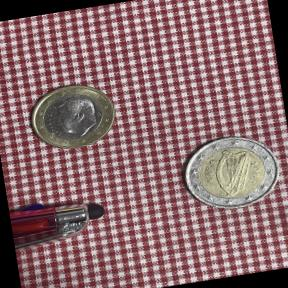coin: (173, 125, 287, 218), (20, 75, 122, 160)
